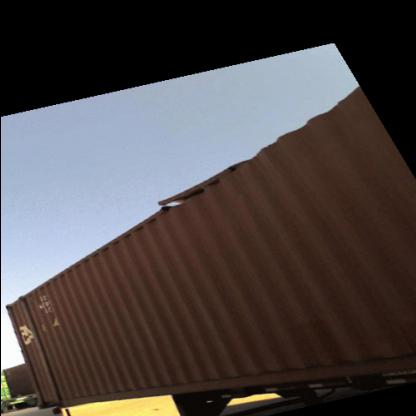Damage: (148, 154, 252, 222), (18, 282, 58, 400)
